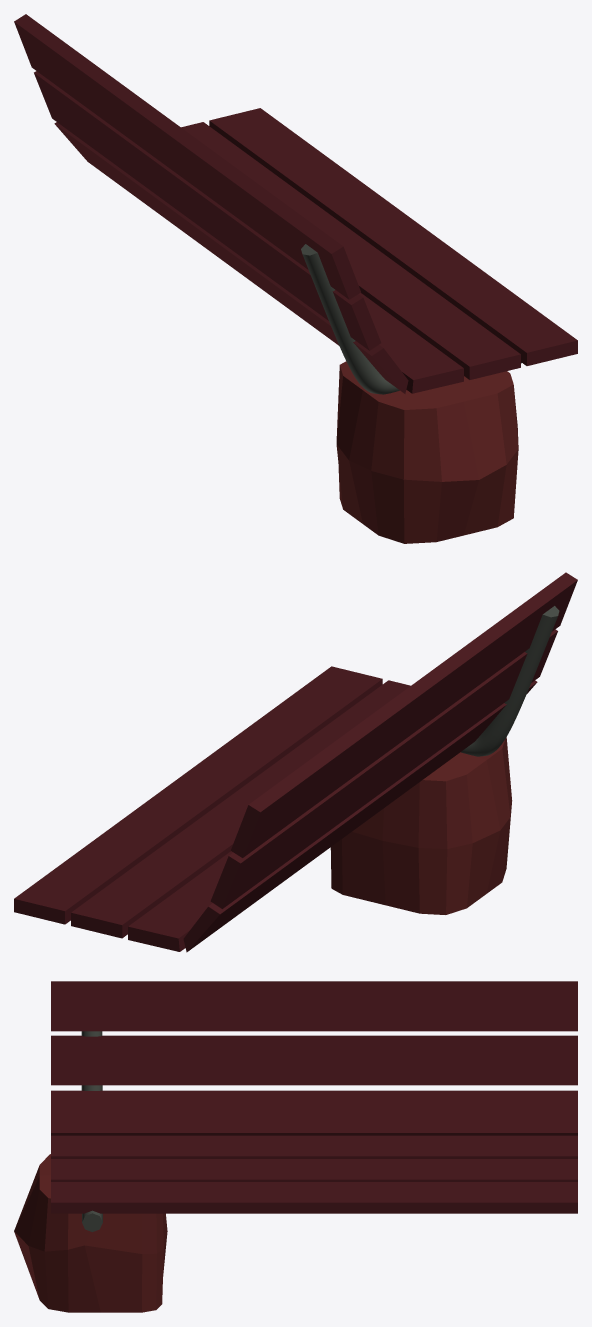
Rendered from Bench.glb.
3 renders of one model, top to bottom at view 1: azimuth 30°, elevation 25°; view 2: azimuth 150°, elevation 25°; view 3: azimuth 270°, elevation 25°, orthographic. The views are drawn at different scales.
Parts seen in each view (by area): view 1: Cube.001, Cube, NurbsPath; view 2: Cube.001, Cube, NurbsPath; view 3: Cube.001, Cube, NurbsPath.
Part boxes in pixels (<box>): Cube.001: <box>14,14,577,393</box>; Cube: <box>336,361,518,543</box>; NurbsPath: <box>301,244,521,394</box>; Cube.001: <box>14,572,577,952</box>; Cube: <box>330,737,512,914</box>; NurbsPath: <box>461,606,559,756</box>; Cube.001: <box>51,981,577,1213</box>; Cube: <box>14,1154,167,1312</box>; NurbsPath: <box>81,1031,102,1231</box>.
Bounding box in the file's own units: 4.03 × 4.66 × 9.21.
